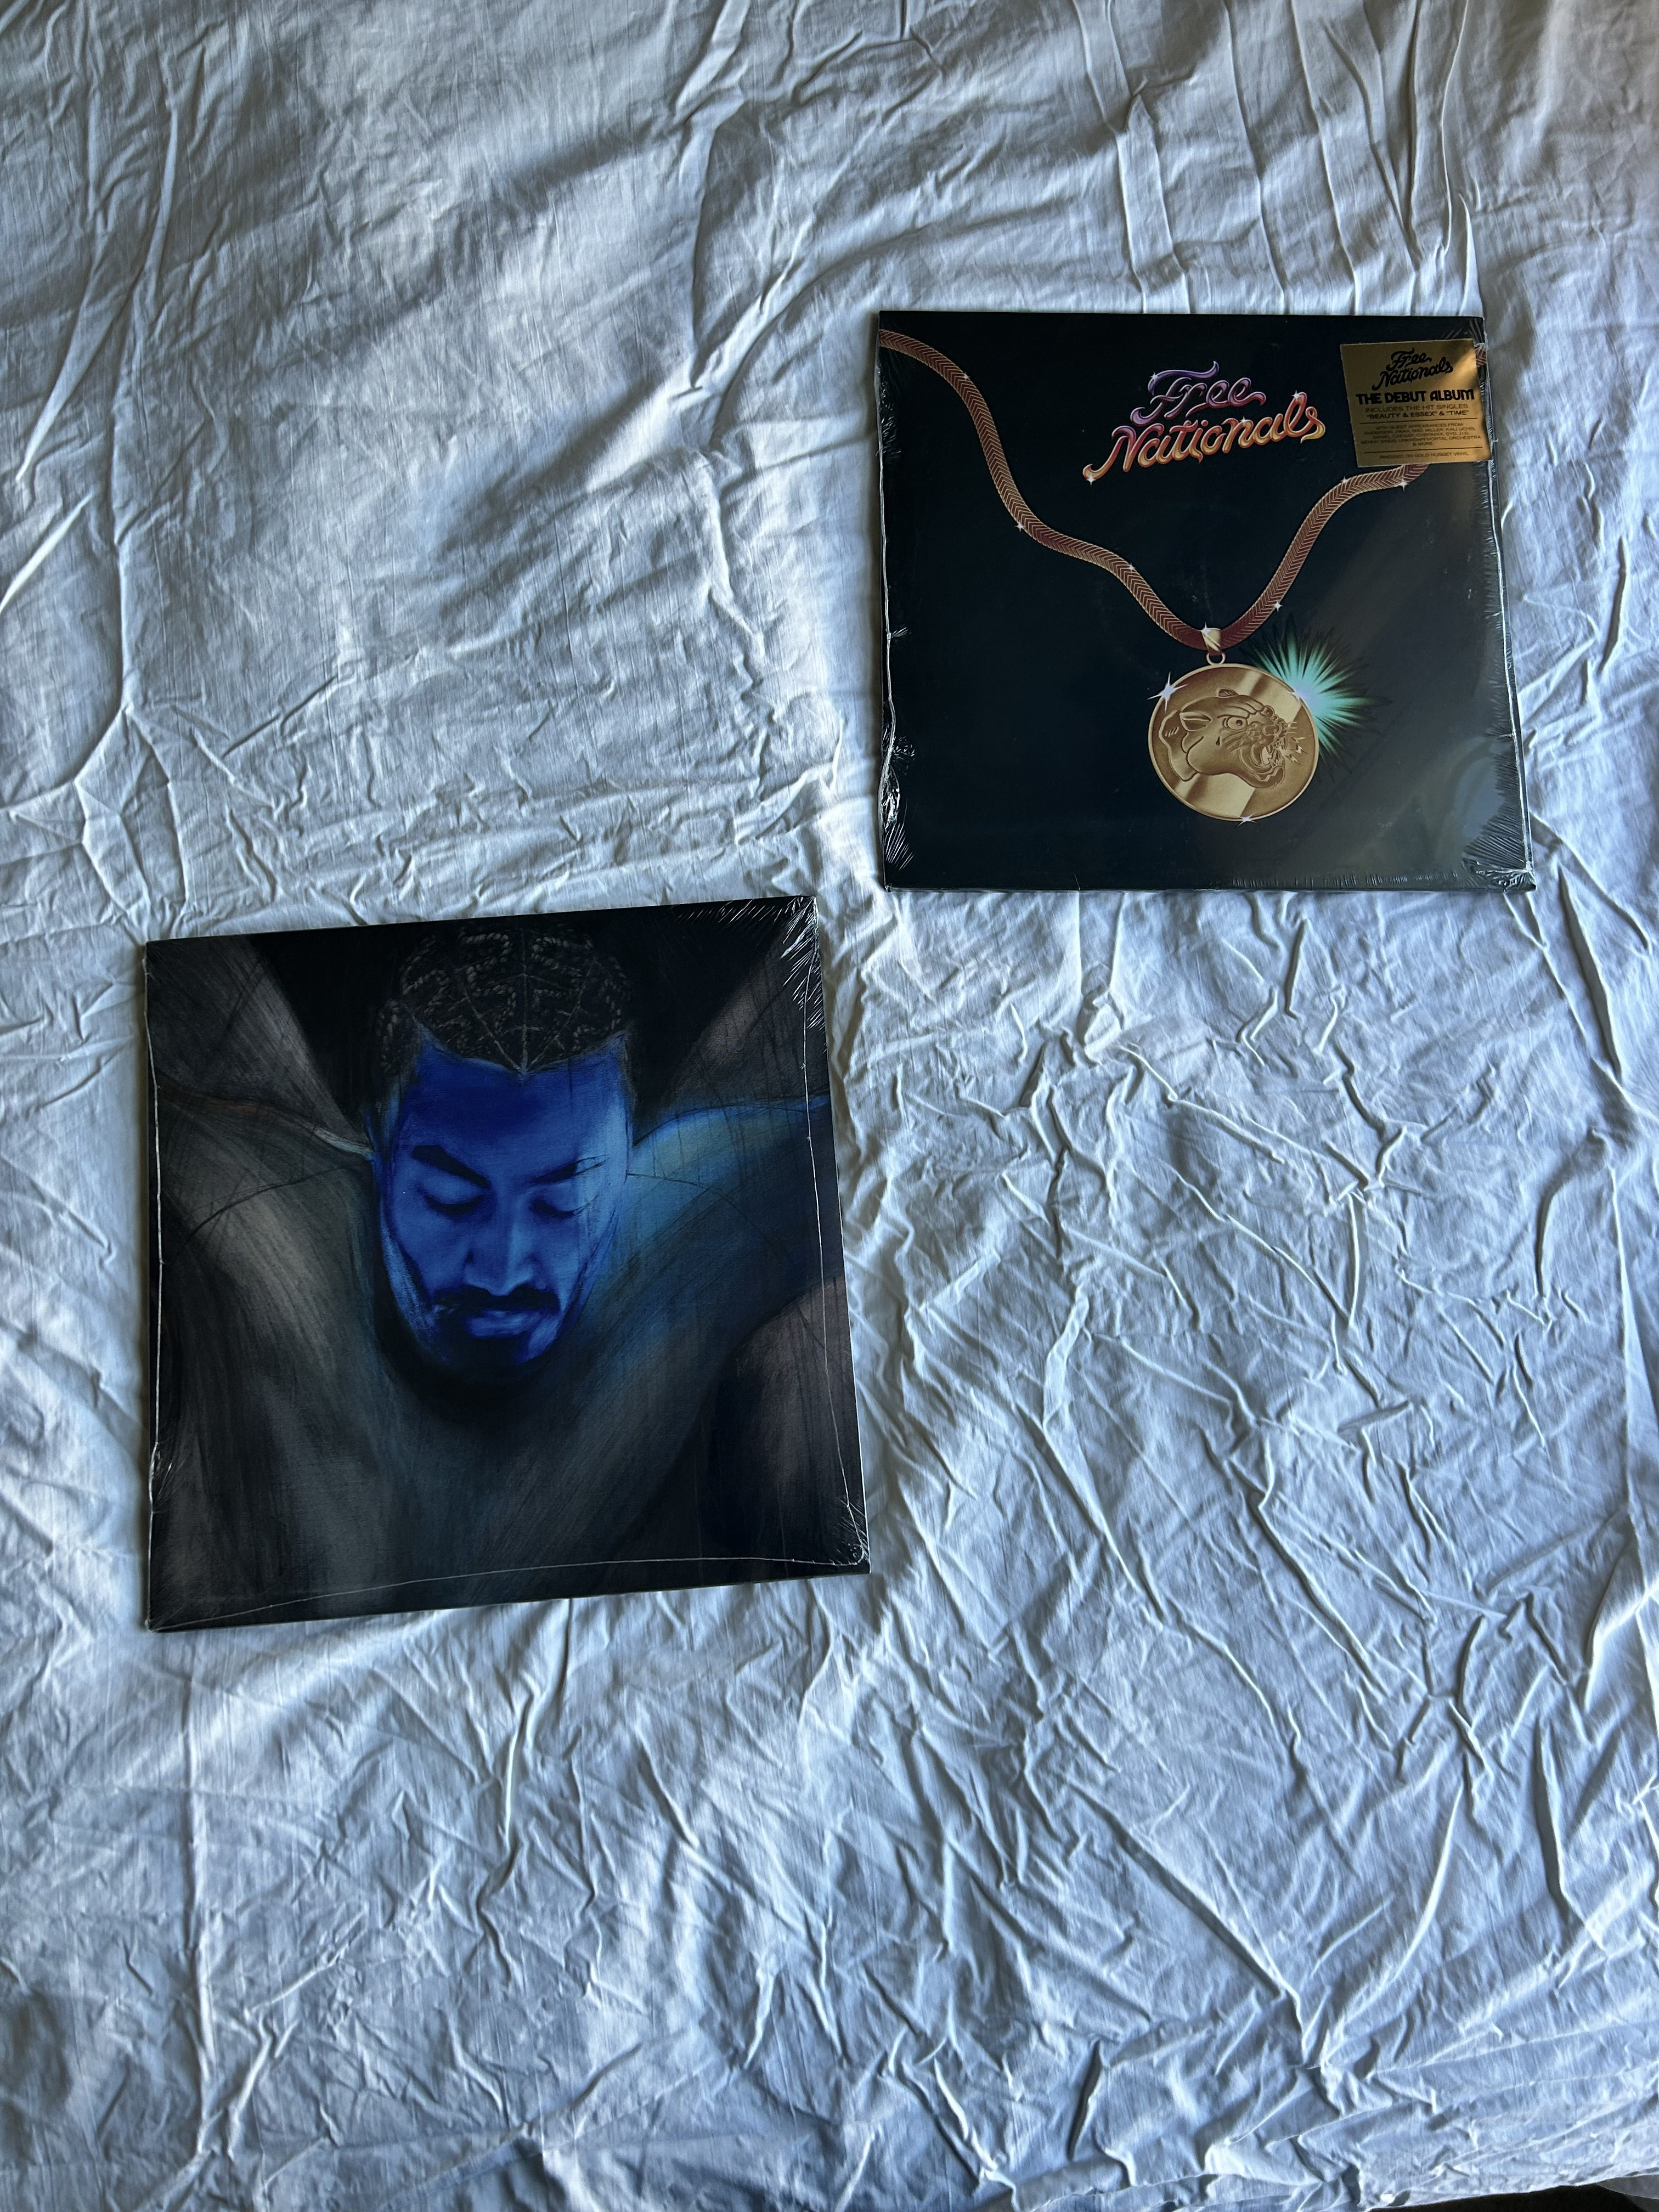free nationals_free nationals: (863, 291, 1542, 899)
navy blue_song of sage: post panic!: (99, 927, 843, 1630)
